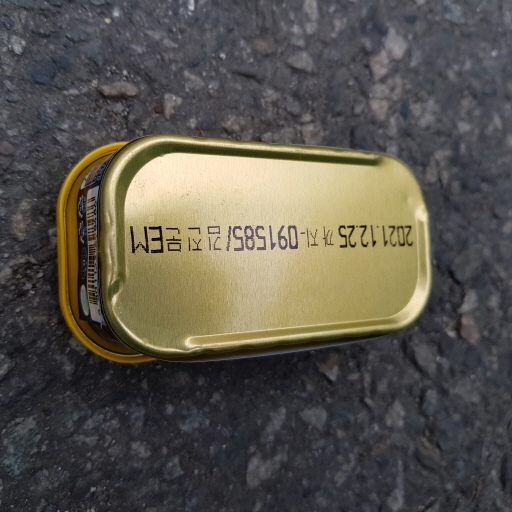Metal_2: (52, 132, 434, 370)
